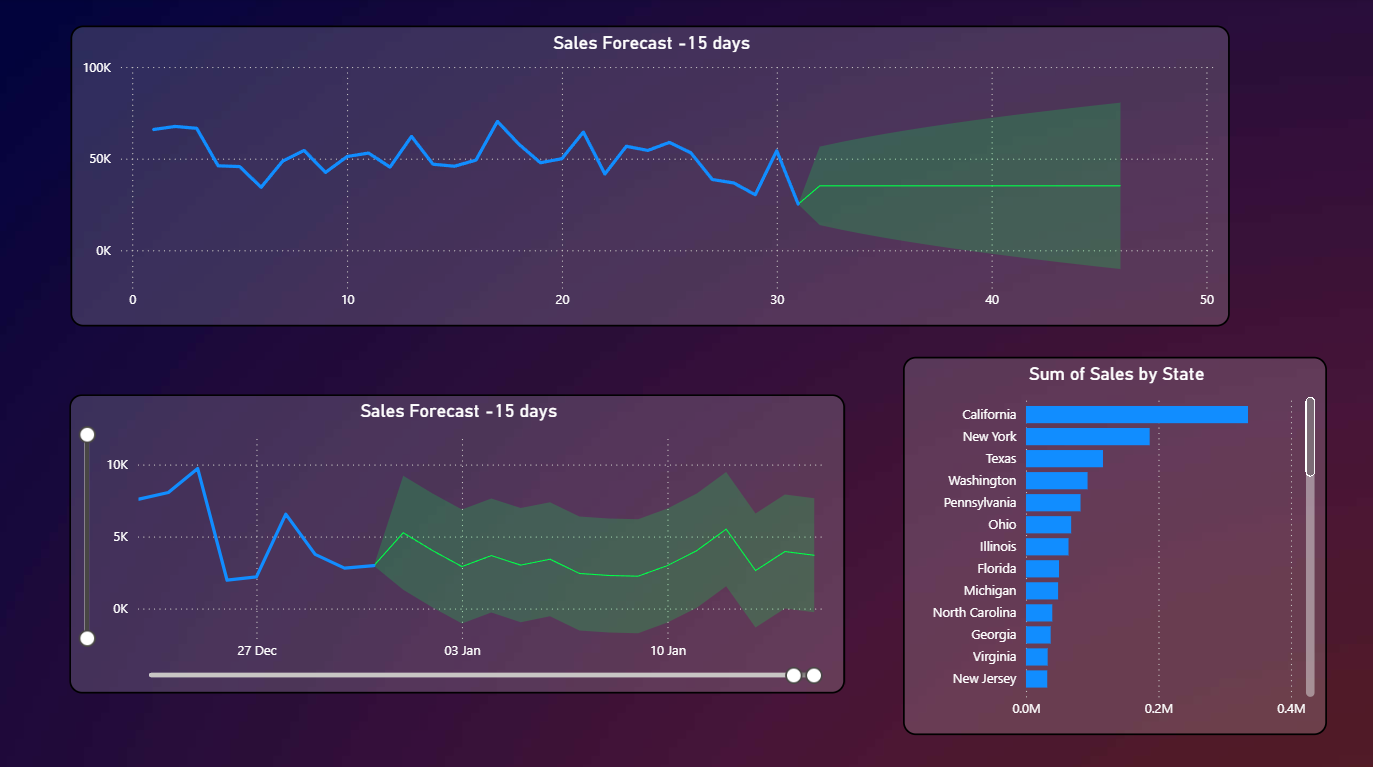

Layout of this report page (visuals, bound fields, positions):
{"tool":"powerbi","page":{"name":"Page 2","canvas":[1280,720],"ordinal":1},"visuals":[{"type":"lineChart","title":"Sales Forecast -15 days","fields":{"Y":["Sum(SalesForecast.Total Sales)"],"Category":["SalesForecast.Order Date.Variation.Date Hierarchy.Day"]},"box":[66.9,25.9,1078.3,279.8],"z":0},{"type":"lineChart","title":"Sales Forecast -15 days","fields":{"Y":["Sum(SalesForecast.Total Sales)"],"Category":["SalesForecast.Order Date"]},"box":[66.1,368.5,721.6,278.7],"z":1000},{"type":"clusteredBarChart","fields":{"Category":["SuperStore_Sales_Dataset.State"],"Y":["Sum(SuperStore_Sales_Dataset.Sales)"]},"box":[842.1,334.2,394.5,351.9],"z":2000}]}

Visuals, with their boxes in screenshot pixels (x1, y1, x2, y2), scaled from the page's 1280x720 canvas onto the 1373x767 screenshot:
"Sales Forecast -15 days" lineChart: (left=72, top=28, right=1228, bottom=326)
"Sales Forecast -15 days" lineChart: (left=71, top=393, right=845, bottom=689)
clusteredBarChart - SuperStore_Sales_Dataset.State x Sum(SuperStore_Sales_Dataset.Sales): (left=903, top=356, right=1326, bottom=731)
